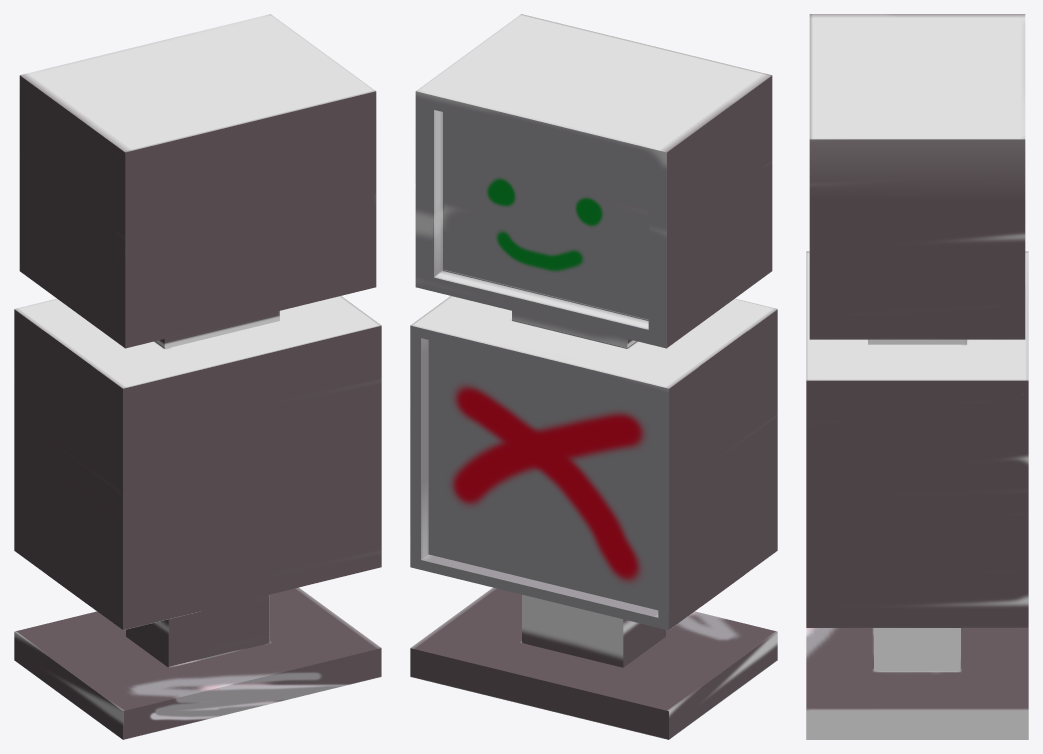
Rendered from Target.fbx.
3 views of the same model, side by side, from view 1: azimuth 30°, elevation 25°; view 2: azimuth 150°, elevation 25°; view 3: azimuth 270°, elevation 25° (orthographic). The views are drawn at different scales.
Visible parts, largest first — view 1: 立方體.001; view 2: 立方體.001; view 3: 立方體.001.
Boxes of the visible parts, left/top/right/bottom form: 立方體.001: left=14, top=14, right=381, bottom=739; 立方體.001: left=410, top=14, right=777, bottom=739; 立方體.001: left=806, top=14, right=1028, bottom=739.
Bounding box in the file's own units: 376 × 813 × 274.
